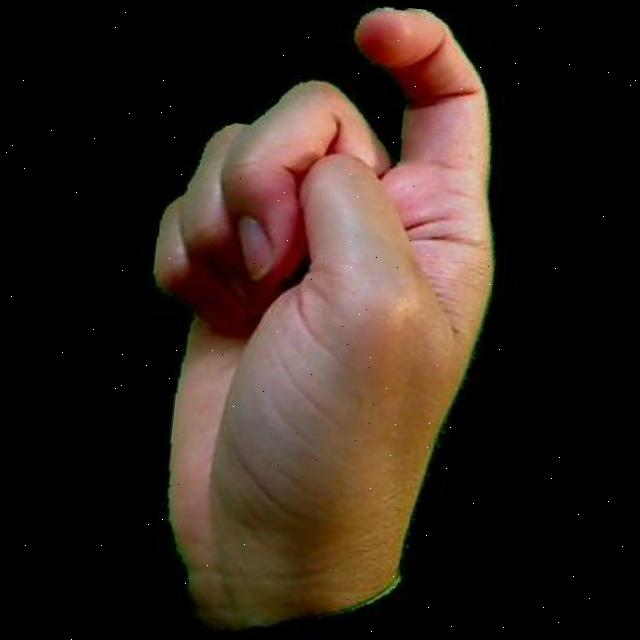x: (92, 0, 542, 640)
